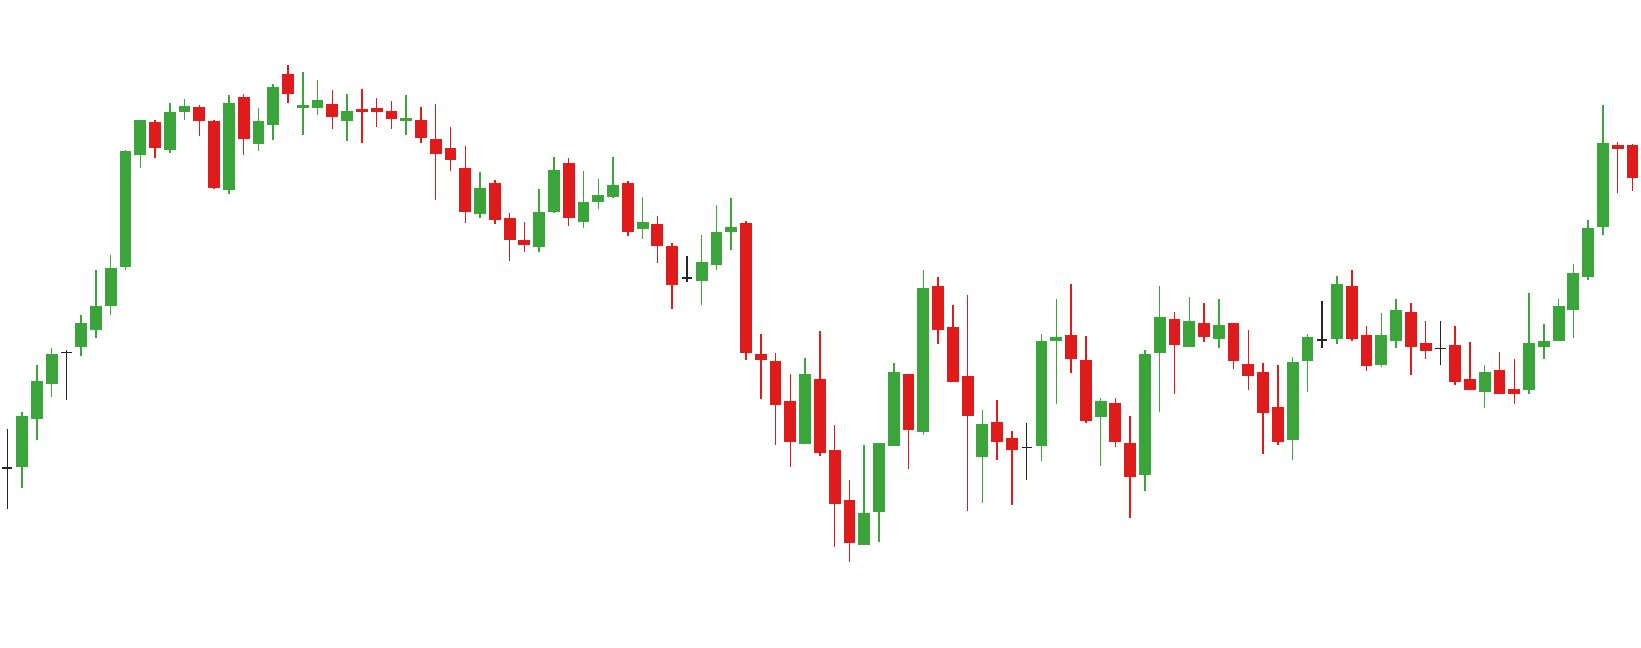buy: (1149, 332, 1303, 460), (899, 352, 990, 508)
